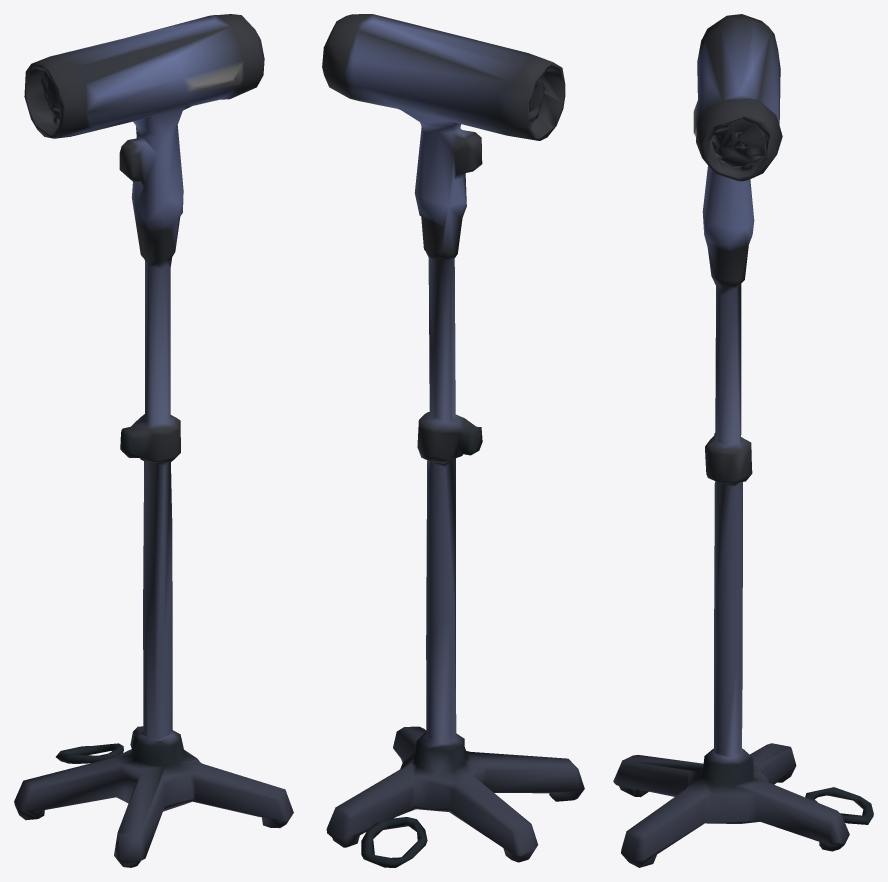
File: gen3d-grooming-dryer-lod1.glb
3 renders of one model, left to right at view 1: azimuth 30°, elevation 25°; view 2: azimuth 150°, elevation 25°; view 3: azimuth 270°, elevation 25°, orthographic. The views are drawn at different scales.
Visible parts, largest first — view 1: part_0; view 2: part_0; view 3: part_0.
Boxes of the visible parts, <box> form: part_0: <box>14,14,293,867</box>; part_0: <box>322,14,584,867</box>; part_0: <box>613,14,873,867</box>.
Size of the model in its own units: 0.2862 by 0.9982 by 0.3089.
